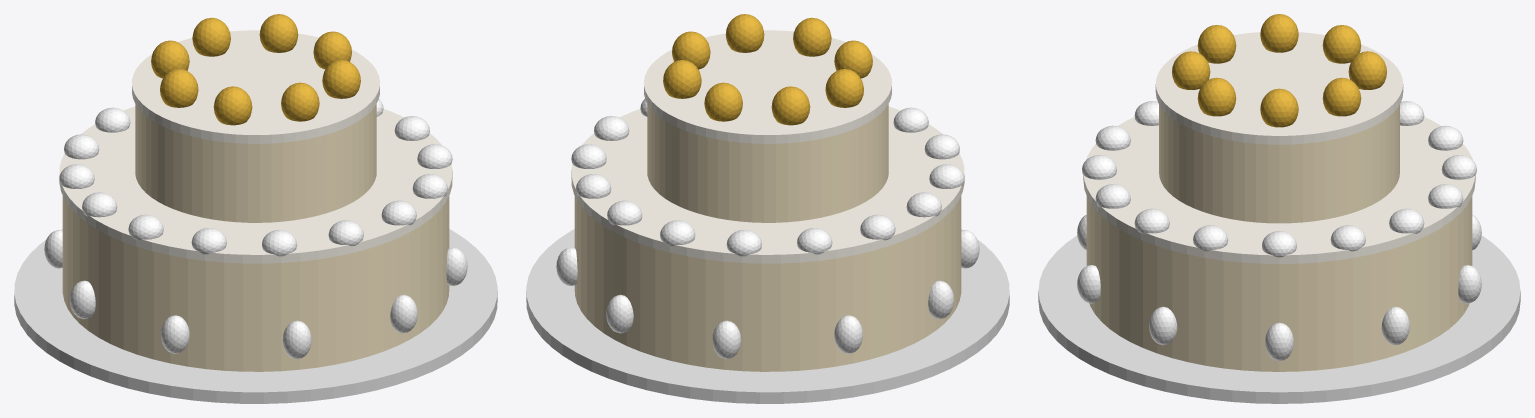
The model's file is torta_tres_leches.glb.
3 views of the same model, side by side, from view 1: azimuth 30°, elevation 25°; view 2: azimuth 150°, elevation 25°; view 3: azimuth 270°, elevation 25° (orthographic).
Parts seen in each view (by area): view 1: torta_tres_leches_1, torta_tres_leches_0, torta_tres_leches_19, torta_tres_leches_2, torta_tres_leches_20, torta_tres_leches_23, torta_tres_leches_27, torta_tres_leches_22, torta_tres_leches_24, torta_tres_leches_28, torta_tres_leches_25, torta_tres_leches_26 (+19 smaller); view 2: torta_tres_leches_1, torta_tres_leches_0, torta_tres_leches_19, torta_tres_leches_2, torta_tres_leches_20, torta_tres_leches_27, torta_tres_leches_23, torta_tres_leches_26, torta_tres_leches_28, torta_tres_leches_22, torta_tres_leches_25, torta_tres_leches_24 (+19 smaller); view 3: torta_tres_leches_1, torta_tres_leches_0, torta_tres_leches_19, torta_tres_leches_2, torta_tres_leches_20, torta_tres_leches_21, torta_tres_leches_25, torta_tres_leches_22, torta_tres_leches_28, torta_tres_leches_23, torta_tres_leches_27, torta_tres_leches_24 (+19 smaller).
Boxes of the visible parts, x1=… form: torta_tres_leches_1: x1=62, y1=196, x2=449, y2=371; torta_tres_leches_0: x1=14, y1=229, x2=497, y2=403; torta_tres_leches_19: x1=135, y1=104, x2=376, y2=222; torta_tres_leches_2: x1=59, y1=106, x2=452, y2=263; torta_tres_leches_20: x1=132, y1=30, x2=379, y2=143; torta_tres_leches_23: x1=281, y1=82, x2=319, y2=121; torta_tres_leches_27: x1=192, y1=17, x2=230, y2=56; torta_tres_leches_22: x1=322, y1=60, x2=360, y2=98; torta_tres_leches_24: x1=213, y1=86, x2=252, y2=125; torta_tres_leches_28: x1=259, y1=14, x2=298, y2=52; torta_tres_leches_25: x1=160, y1=69, x2=198, y2=107; torta_tres_leches_26: x1=151, y1=40, x2=189, y2=78; torta_tres_leches_1: x1=574, y1=196, x2=961, y2=371; torta_tres_leches_0: x1=526, y1=229, x2=1009, y2=403; torta_tres_leches_19: x1=647, y1=104, x2=888, y2=222; torta_tres_leches_2: x1=571, y1=106, x2=964, y2=263; torta_tres_leches_20: x1=644, y1=30, x2=891, y2=143; torta_tres_leches_27: x1=704, y1=82, x2=742, y2=121; torta_tres_leches_23: x1=793, y1=17, x2=831, y2=56; torta_tres_leches_26: x1=771, y1=86, x2=810, y2=125; torta_tres_leches_28: x1=663, y1=60, x2=701, y2=98; torta_tres_leches_22: x1=725, y1=14, x2=764, y2=52; torta_tres_leches_25: x1=825, y1=69, x2=863, y2=107; torta_tres_leches_24: x1=834, y1=40, x2=872, y2=78; torta_tres_leches_1: x1=1086, y1=196, x2=1472, y2=371; torta_tres_leches_0: x1=1038, y1=235, x2=1520, y2=403; torta_tres_leches_19: x1=1159, y1=104, x2=1399, y2=223; torta_tres_leches_2: x1=1083, y1=117, x2=1475, y2=263; torta_tres_leches_20: x1=1155, y1=32, x2=1403, y2=144; torta_tres_leches_21: x1=1260, y1=88, x2=1298, y2=127; torta_tres_leches_25: x1=1260, y1=14, x2=1298, y2=52; torta_tres_leches_22: x1=1197, y1=77, x2=1236, y2=116; torta_tres_leches_28: x1=1322, y1=77, x2=1361, y2=116; torta_tres_leches_23: x1=1172, y1=51, x2=1210, y2=89; torta_tres_leches_27: x1=1348, y1=51, x2=1386, y2=89; torta_tres_leches_24: x1=1197, y1=25, x2=1236, y2=63.
Size of the model in its own units: 0.3 by 0.1712 by 0.3.
